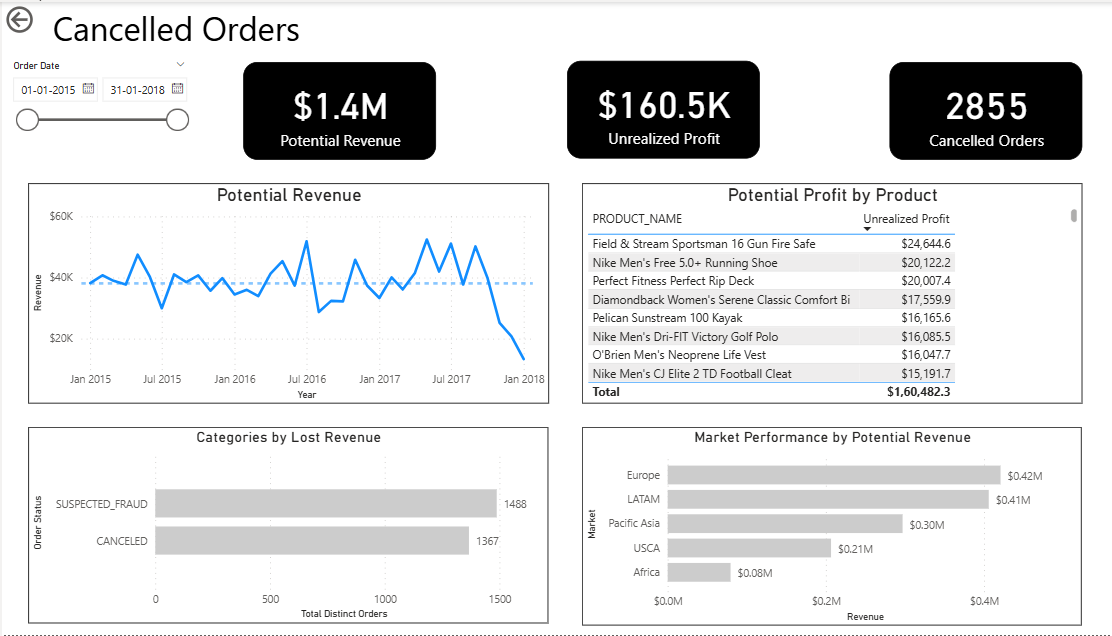

What the dashboard file says about the page in this screenshot:
{"tool":"powerbi","page":{"name":"Cancelled Orders","canvas":[1280,720],"ordinal":3},"visuals":[{"type":"card","fields":{"Values":["Measure Table.Gross Revenue"]},"box":[274.2,68.2,218.8,110.8],"z":0},{"type":"textbox","box":[52.6,0,660.7,119.4],"z":1000},{"type":"card","fields":{"Values":["Measure Table.Total Profit"]},"box":[641.6,66.2,218.8,110.8],"z":2000},{"type":"card","fields":{"Values":["Measure Table.Total Distinct Orders"]},"box":[1008.9,68.2,218.8,110.8],"z":3000},{"type":"lineChart","title":"Potential Revenue","fields":{"Y":["Measure Table.Gross Revenue"],"Category":["Date.Start of Month.Variation.Date Hierarchy.Year","Date.Start of Month.Variation.Date Hierarchy.Month"]},"box":[29.3,206.6,591.6,250.6],"z":4000},{"type":"clusteredBarChart","title":"Market Performance by Potential Revenue","fields":{"Category":["Transaction.MARKET"],"Y":["Measure Table.Gross Revenue"]},"box":[659.3,483.1,568.4,225.9],"z":5000},{"type":"clusteredBarChart","title":"Categories by Lost Revenue","fields":{"Category":["Transaction.ORDER_STATUS"],"Y":["Measure Table.Total Distinct Orders"]},"box":[29.8,483.1,591.1,223.1],"z":6000},{"type":"tableEx","title":"Potential Profit by Product","fields":{"Values":["Product.PRODUCT_NAME","Measure Table.Total Profit"]},"box":[658.9,206.6,568.4,250.6],"z":7000},{"type":"actionButton","box":[0,0,100,40],"z":8000},{"type":"slicer","fields":{"Values":["Transaction.ORDER_DATE_DATEORDERS"]},"box":[0,61.1,220.2,117.9],"z":9000}]}

Visuals, with their boxes in screenshot pixels (x1, y1, x2, y2), scaled from the page's 1280x720 canvas onto the 1112x636 screenshot:
card - Measure Table.Gross Revenue: <box>238,60,428,158</box>
textbox: <box>46,0,620,105</box>
card - Measure Table.Total Profit: <box>557,58,747,156</box>
card - Measure Table.Total Distinct Orders: <box>876,60,1067,158</box>
"Potential Revenue" lineChart: <box>25,182,539,404</box>
"Market Performance by Potential Revenue" clusteredBarChart: <box>573,427,1067,626</box>
"Categories by Lost Revenue" clusteredBarChart: <box>26,427,539,624</box>
"Potential Profit by Product" tableEx: <box>572,182,1066,404</box>
actionButton: <box>0,0,87,35</box>
slicer - Transaction.ORDER_DATE_DATEORDERS: <box>0,54,191,158</box>
